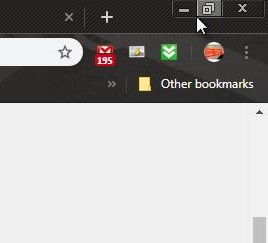cursor: (187, 15, 216, 38)
